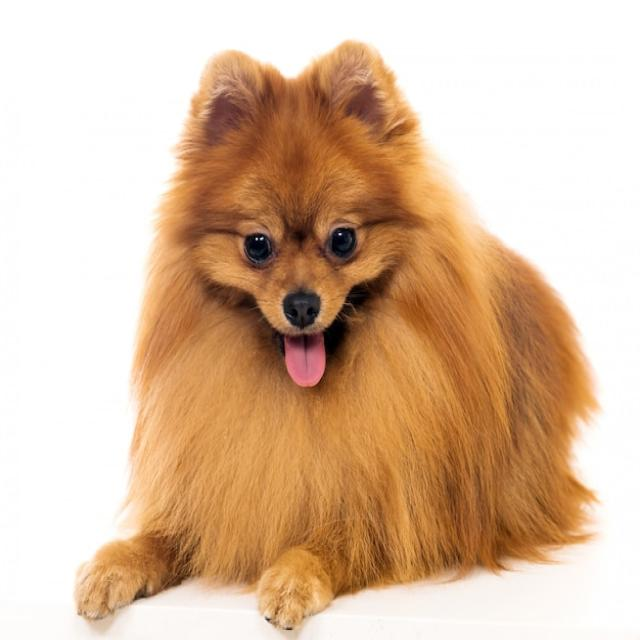Dog: (77, 38, 602, 632)
